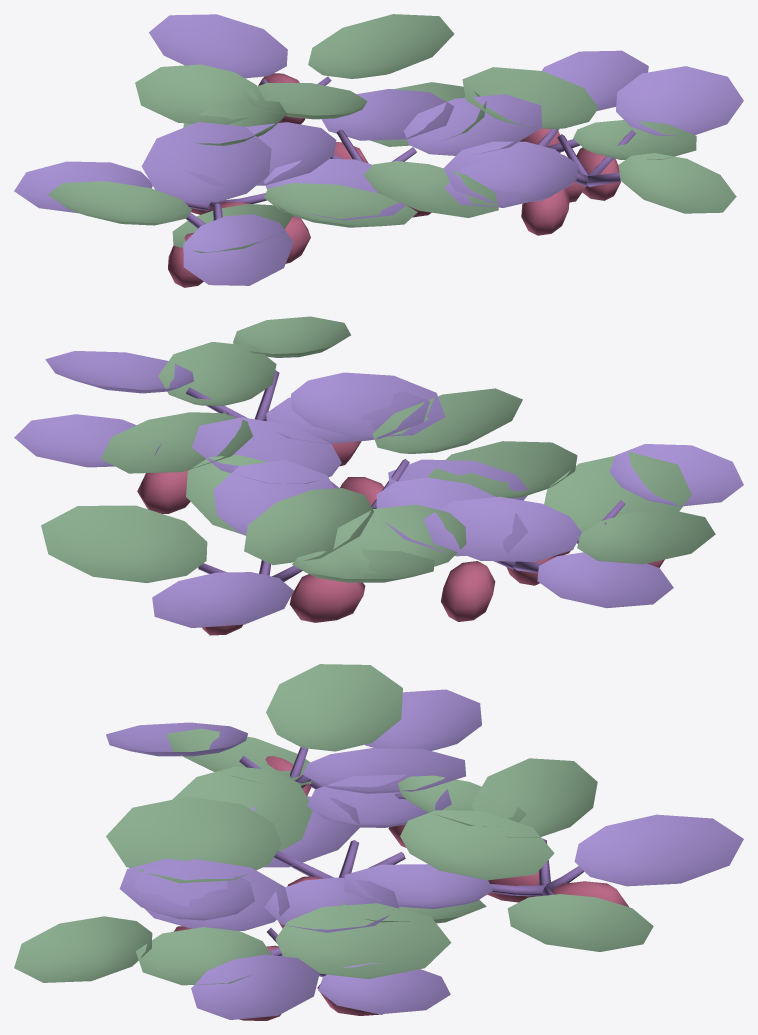
File: sweetpotato_patch.glb
3 renders of one model, top to bottom at view 1: azimuth 30°, elevation 25°; view 2: azimuth 150°, elevation 25°; view 3: azimuth 270°, elevation 25°, orthographic. The views are drawn at different scales.
Visible parts, largest first — view 1: sweetpotato_3, sweetpotato_2, sweetpotato_1; view 2: sweetpotato_3, sweetpotato_2, sweetpotato_1; view 3: sweetpotato_3, sweetpotato_2, sweetpotato_1.
Boxes of the visible parts, x1=… form: sweetpotato_3: x1=48, y1=14, x2=743, y2=287; sweetpotato_2: x1=14, y1=50, x2=696, y2=252; sweetpotato_1: x1=184, y1=83, x2=542, y2=217; sweetpotato_3: x1=41, y1=316, x2=743, y2=635; sweetpotato_2: x1=14, y1=342, x2=691, y2=621; sweetpotato_1: x1=192, y1=388, x2=528, y2=565; sweetpotato_3: x1=14, y1=664, x2=743, y2=1020; sweetpotato_2: x1=134, y1=689, x2=526, y2=1015; sweetpotato_1: x1=106, y1=774, x2=554, y2=932.
Size of the model in its own units: 1.83 by 0.2282 by 1.64.
